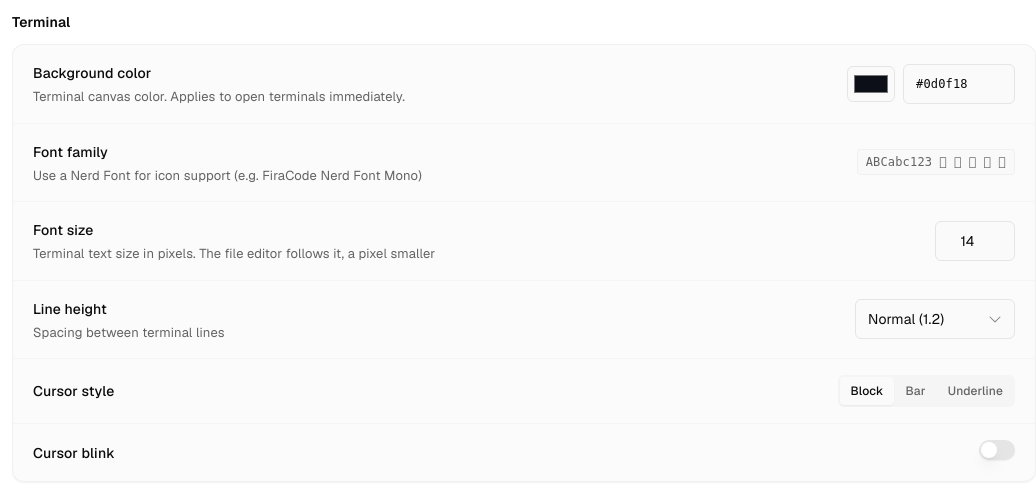
Scenario: TerminalAppearanceCard › font size › commits on Enter
The width and height of the screenshot is (1036, 499).
Click the number field labelled "Font size" at (975, 241), box [935, 221, 1015, 261]
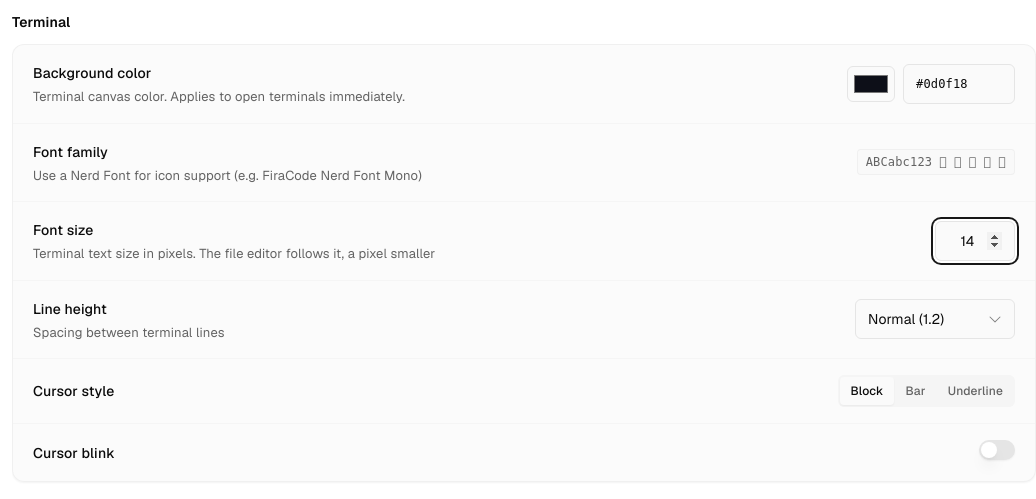
Type keys "3{Enter}"
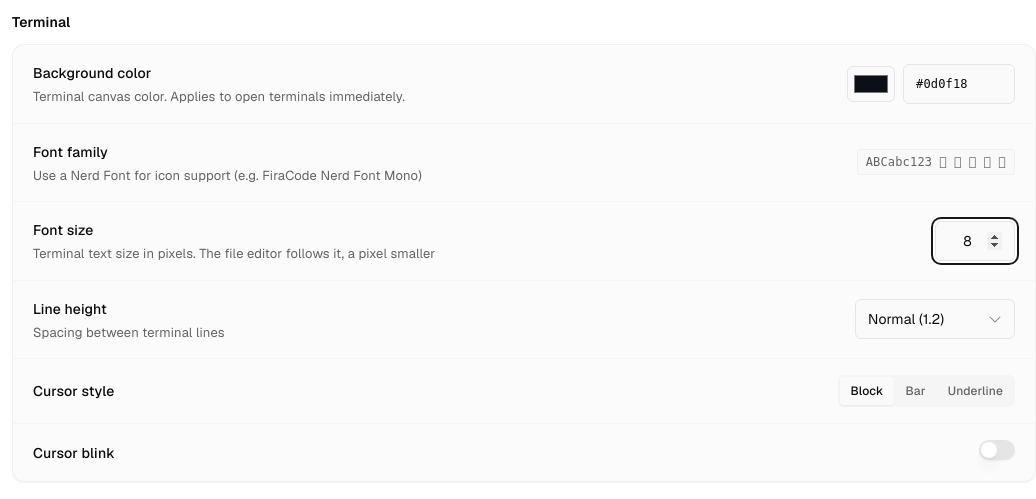
Now the number field labelled "Font size" holds "8", box [935, 221, 1015, 261]
